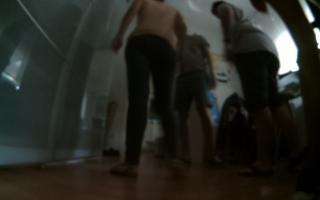person: (109, 1, 191, 184), (208, 1, 287, 181), (249, 1, 320, 200), (177, 20, 214, 170)
